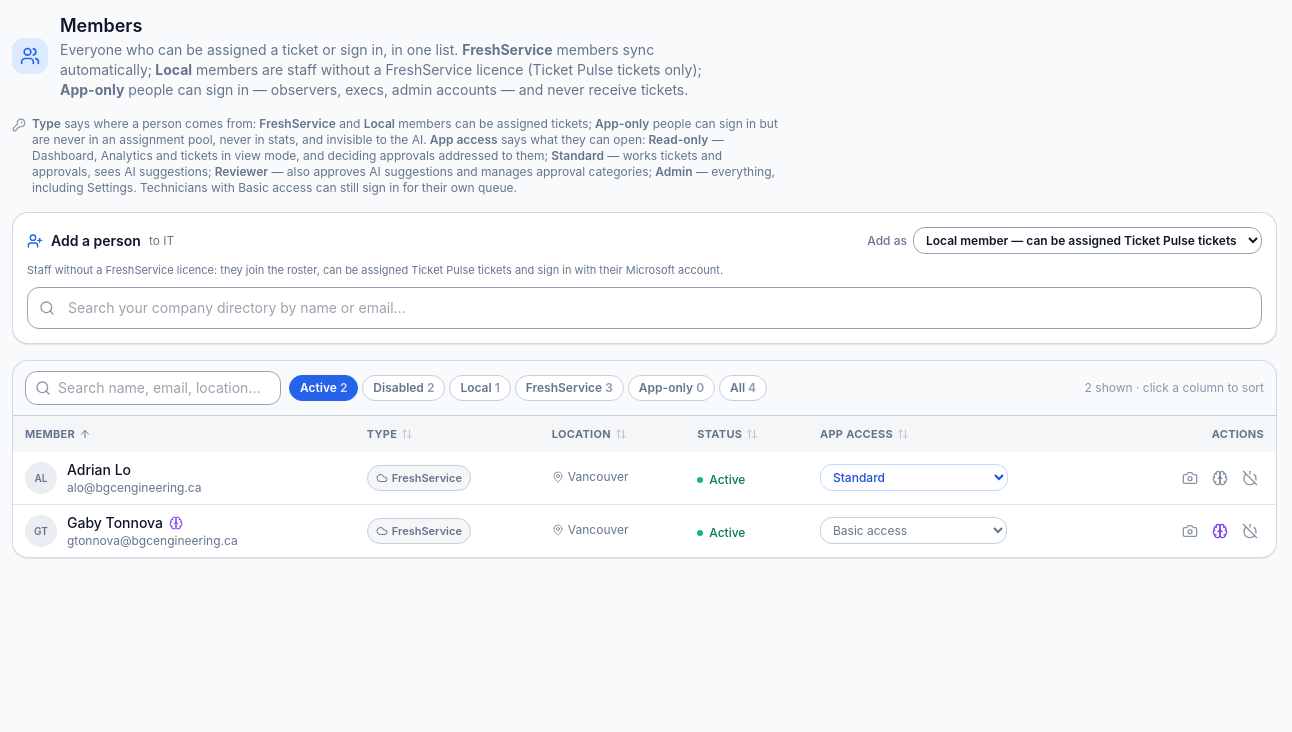
Test case: MembersPanel (table rebuild) › All filter shows disabled rows with a quiet pill (no red badge)
Expected: the text "Adrian Lo" is shown, [67,460,131,478]
Click the button "All 4" at (743, 388), box [719,374,767,400]
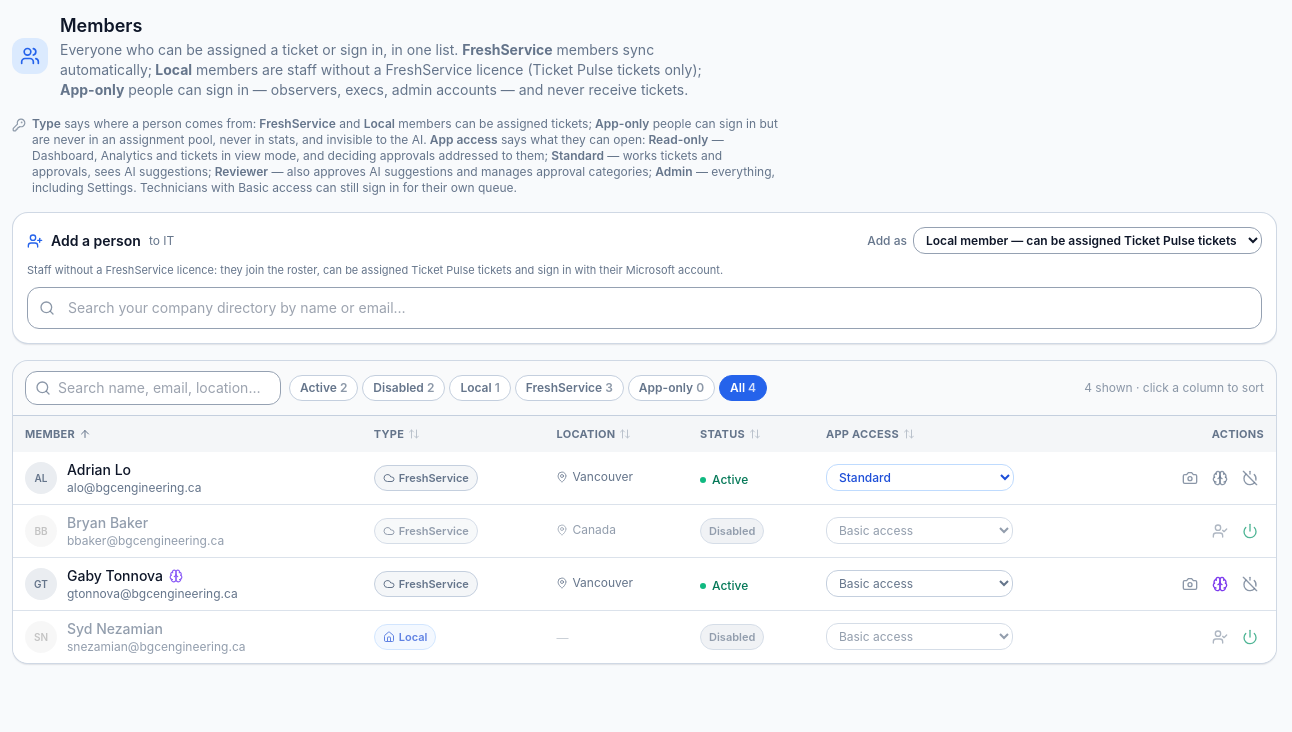
Expected: the button "Disabled 2" is shown, [362,374,445,400]
Now the text "Bryan Baker" is shown, box [67,514,148,530]
